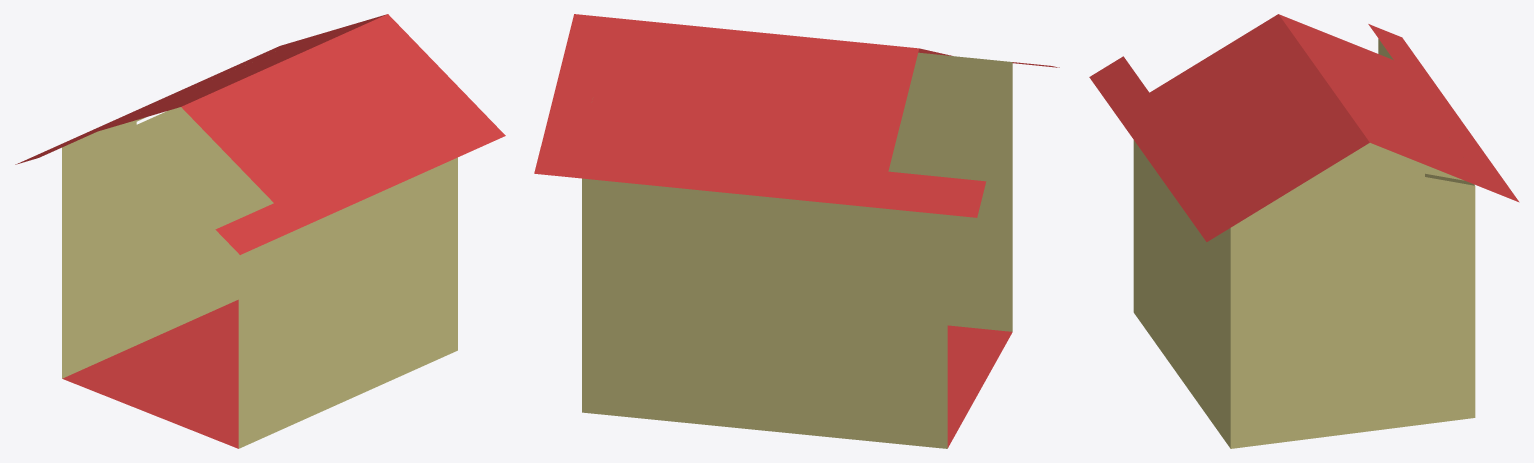
3 views of the same model, side by side, from view 1: azimuth 30°, elevation 25°; view 2: azimuth 150°, elevation 25°; view 3: azimuth 270°, elevation 25° (orthographic). The views are drawn at different scales.
Size of the model in its own units: 13.55 by 12.03 by 9.39.
